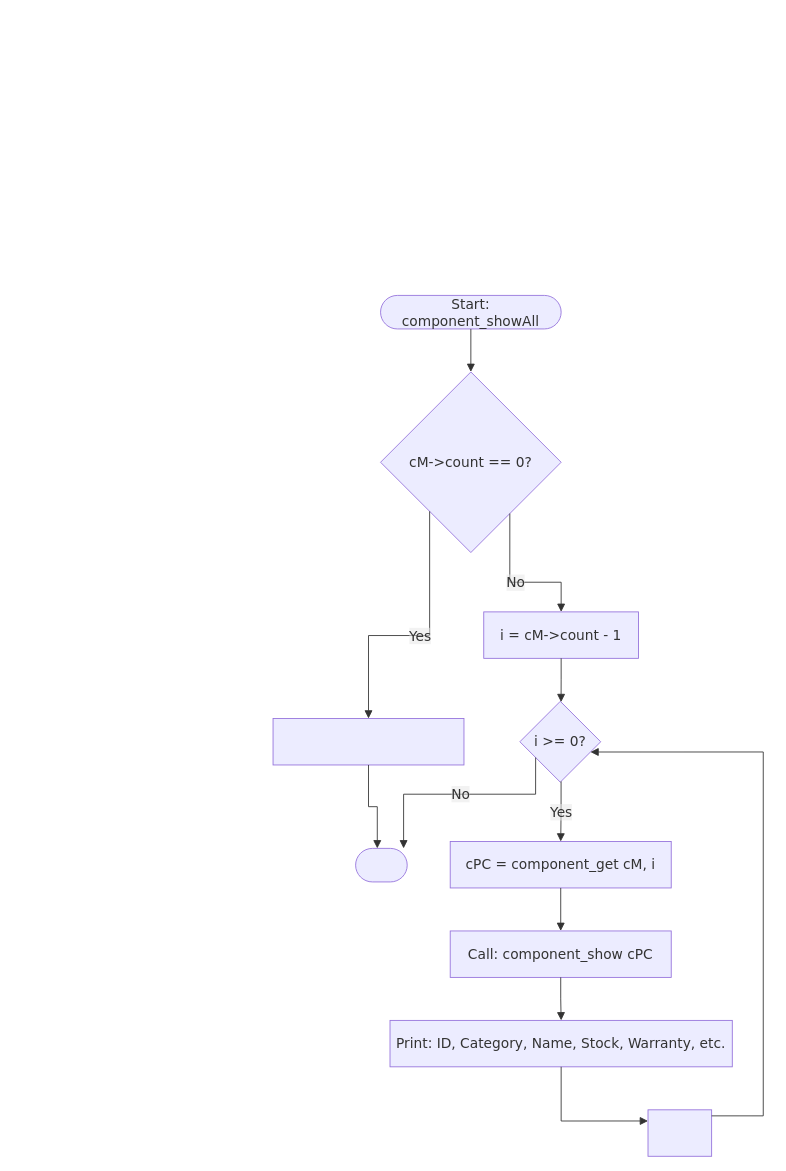
This 786x1171 diagram has some shape labels left out. Here are the shapes that lost their labels. From the top down, the box of each, then its label:
(272, 718, 464, 765): Print: Storage is empty
(355, 848, 407, 882): End
(647, 1109, 712, 1156): i--
